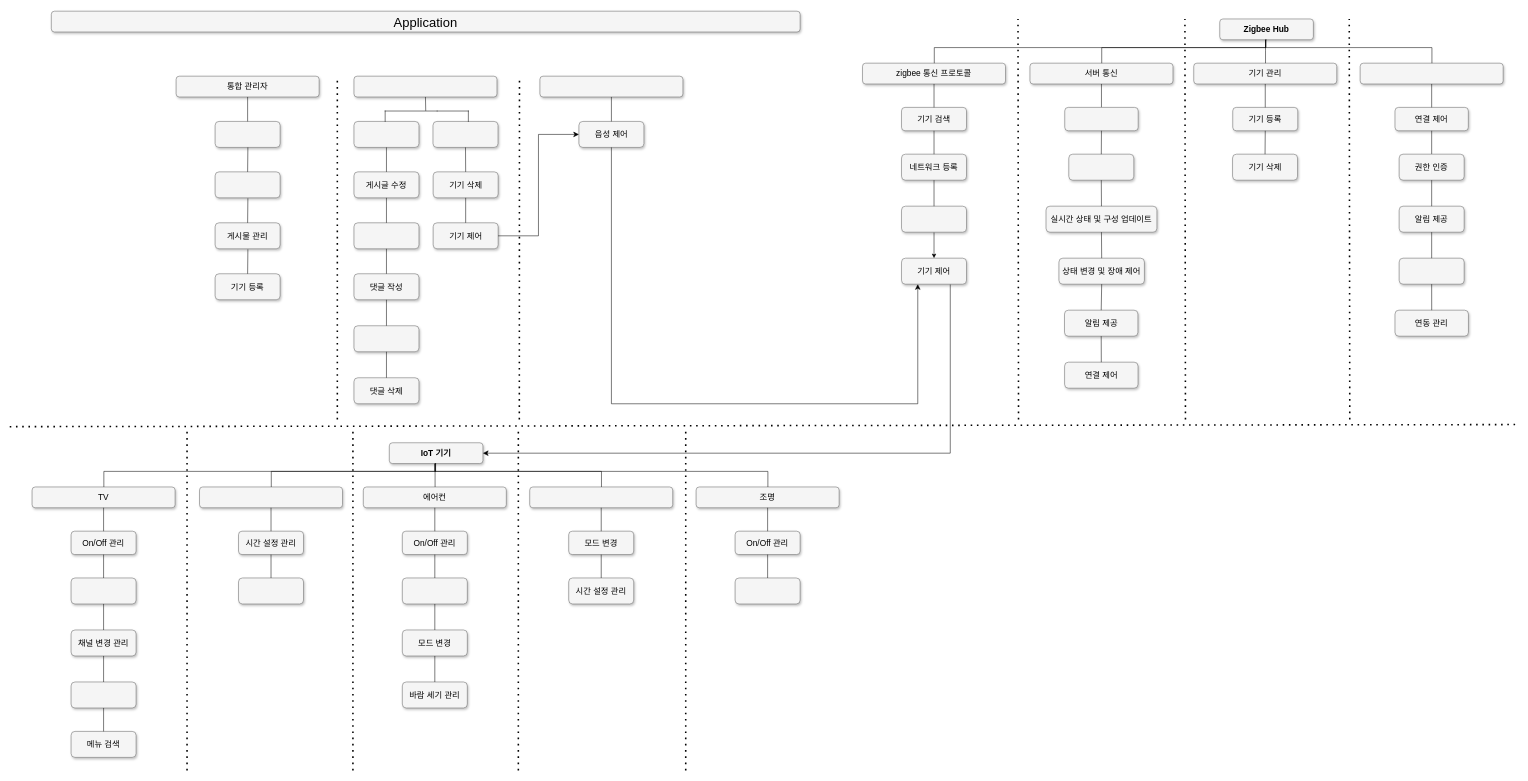
Some shapes in this 1528 by 781 pixel diagram are drawn without their labels. Each missing label, with the centre of its shape:
MQTT 브로커 연결: (x=1101, y=119)
건조기: (x=601, y=497)
게시글 삭제: (x=386, y=236)
게시글 작성: (x=386, y=135)
게시판 관리: (x=248, y=135)
기기 정보 전달: (x=1101, y=168)
다중 연결: (x=934, y=220)
댓글 수정: (x=386, y=339)
메뉴 관리: (x=103, y=591)
모드 변경 관리: (x=271, y=591)
보유기기 등록: (x=465, y=135)
사용자 웹 앱 통신: (x=1432, y=74)
상태 변경 제어: (x=1432, y=272)
세탁기: (x=271, y=497)
온도 조절 관리: (x=435, y=591)
인공지능: (x=611, y=87)
일반 사용자: (x=425, y=87)
조명 밝기 관리: (x=768, y=591)
조이스틱 기능: (x=103, y=695)
회원 관리: (x=248, y=185)
